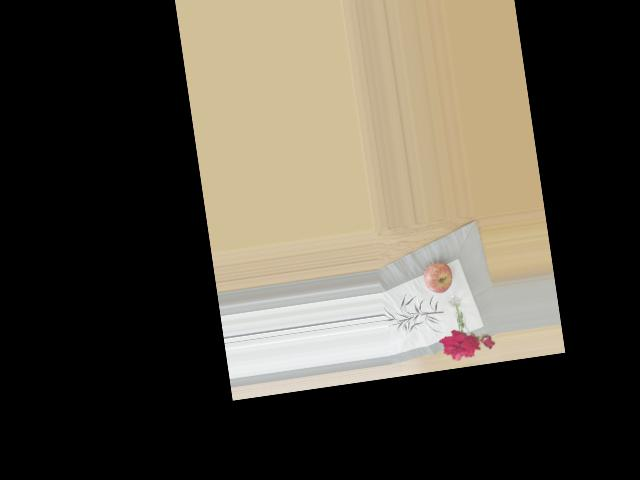apple: (420, 256, 458, 296)
